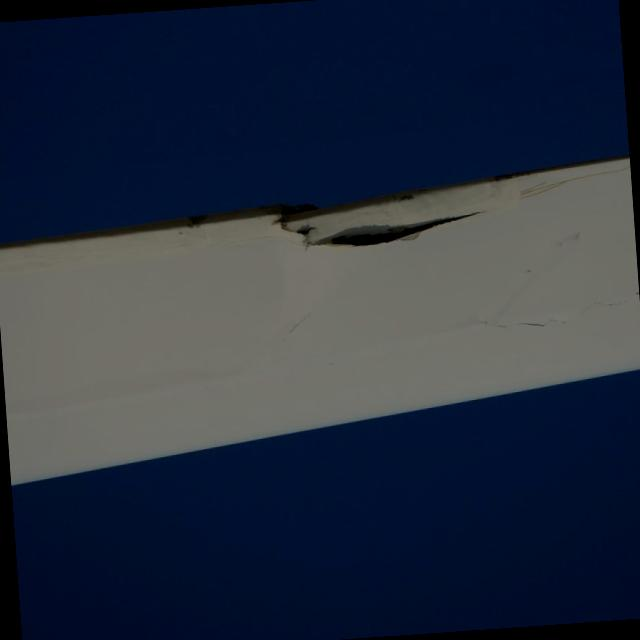crack: (268, 184, 492, 259)
